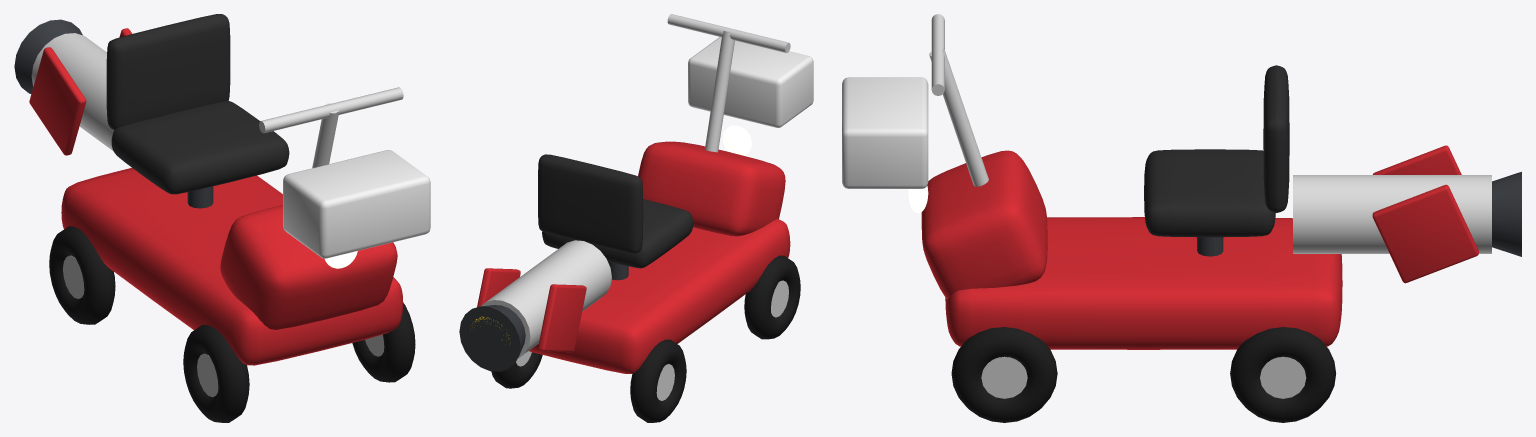
Rendered from scooter.glb.
3 renders of one model, left to right at view 1: azimuth 30°, elevation 25°; view 2: azimuth 150°, elevation 25°; view 3: azimuth 270°, elevation 25°, orthographic. The views are drawn at different scales.
Visible parts, largest first — view 1: scooter_body; view 2: scooter_body; view 3: scooter_body.
Part boxes in pixels (<box>): scooter_body: <box>14,14,430,422</box>; scooter_body: <box>459,14,813,422</box>; scooter_body: <box>842,14,1521,422</box>.
Size of the model in its own units: 0.6951 by 1.1 by 2.05.
